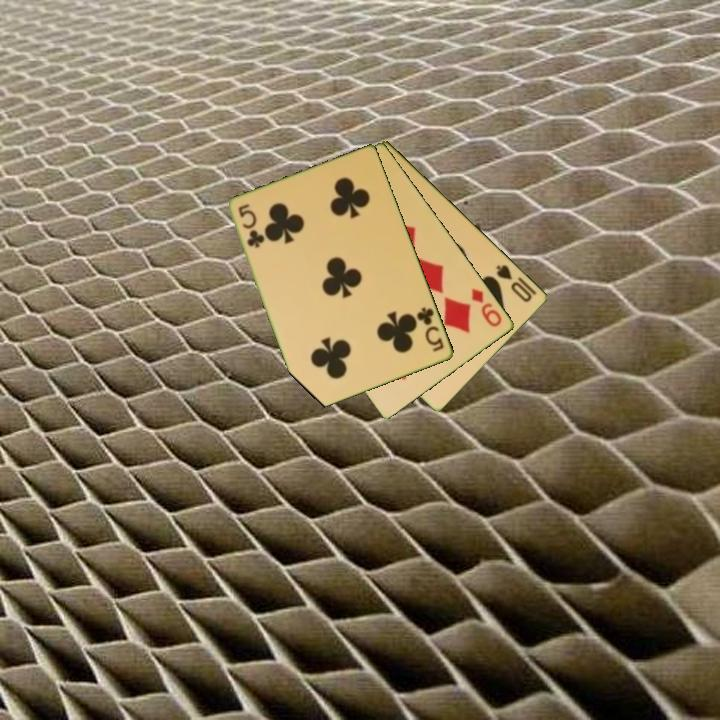10s: (493, 261, 535, 305)
5c: (413, 304, 447, 355), (235, 200, 267, 251)
9d: (468, 284, 505, 330)
